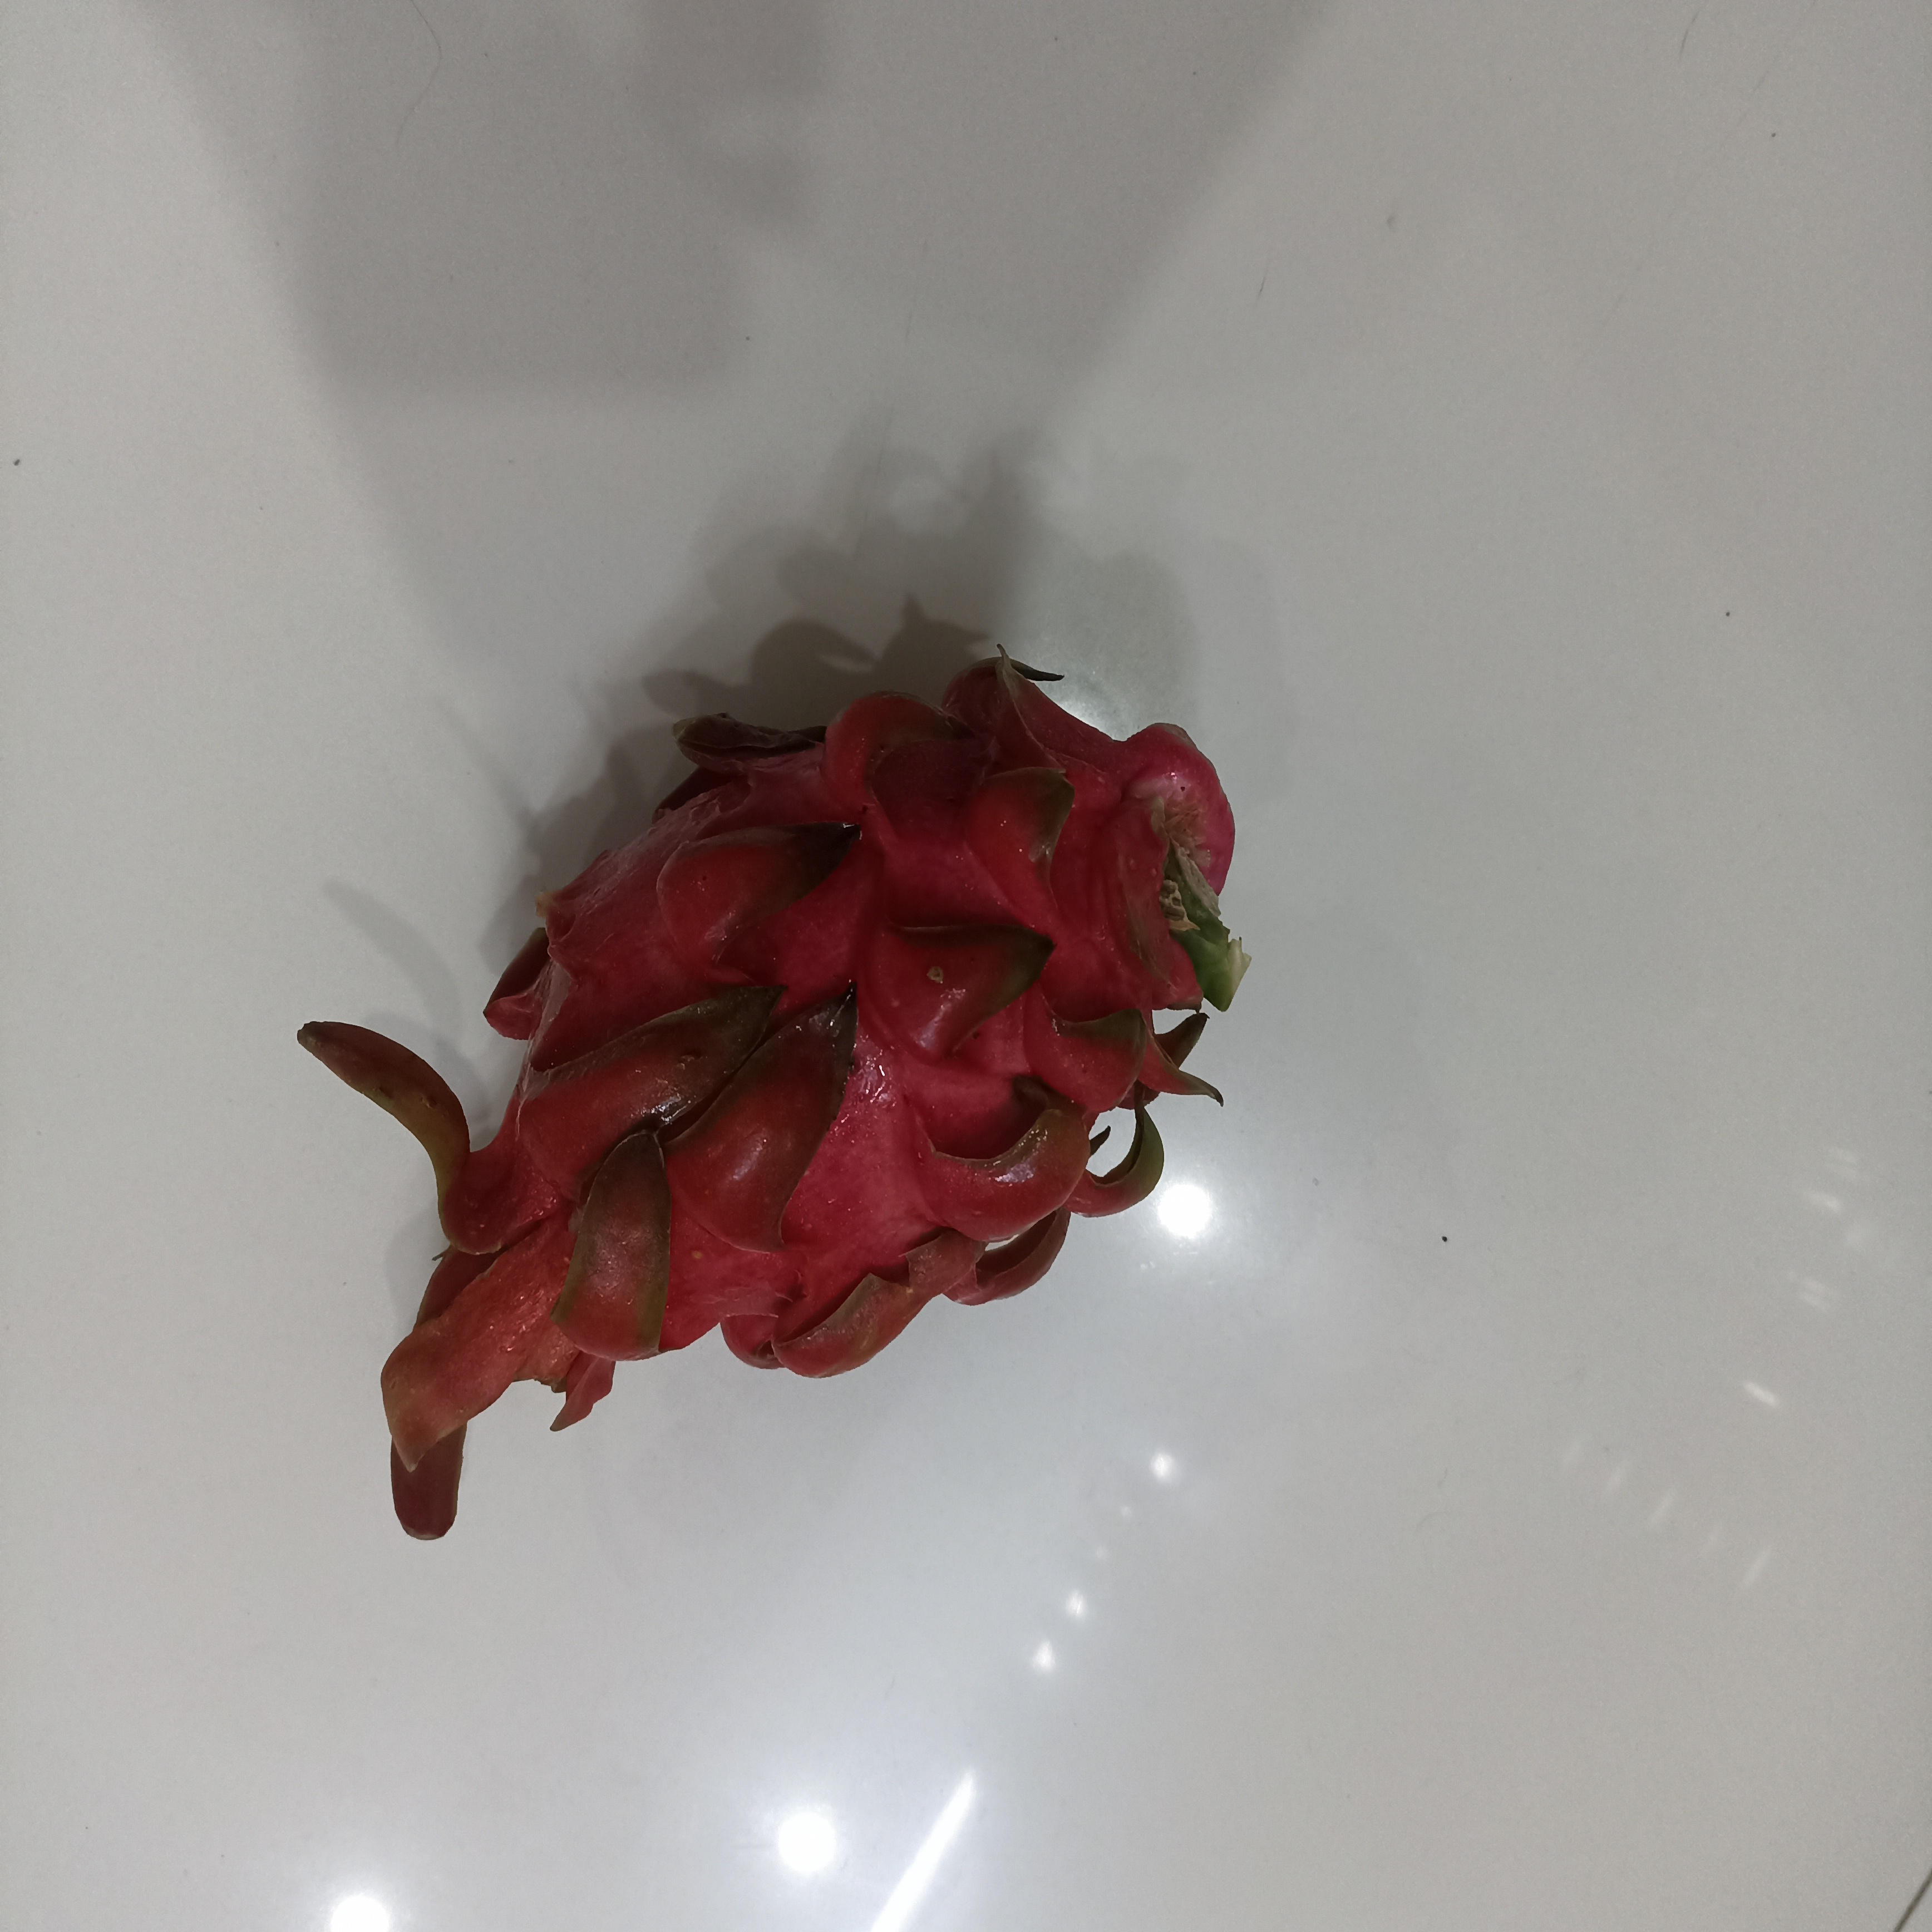Thanh long: (428, 695, 1202, 1348)
